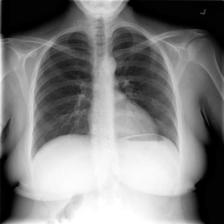normal: (23, 17, 186, 176)
